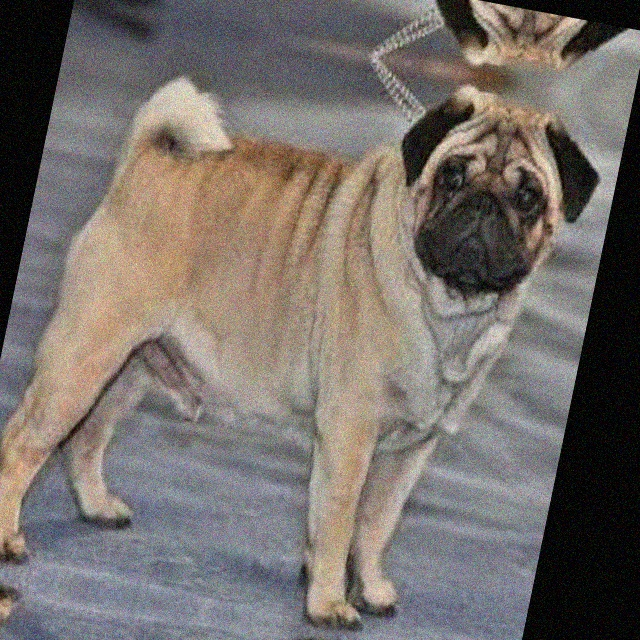dog: (0, 4, 607, 640), (75, 0, 623, 94), (0, 570, 490, 640)
